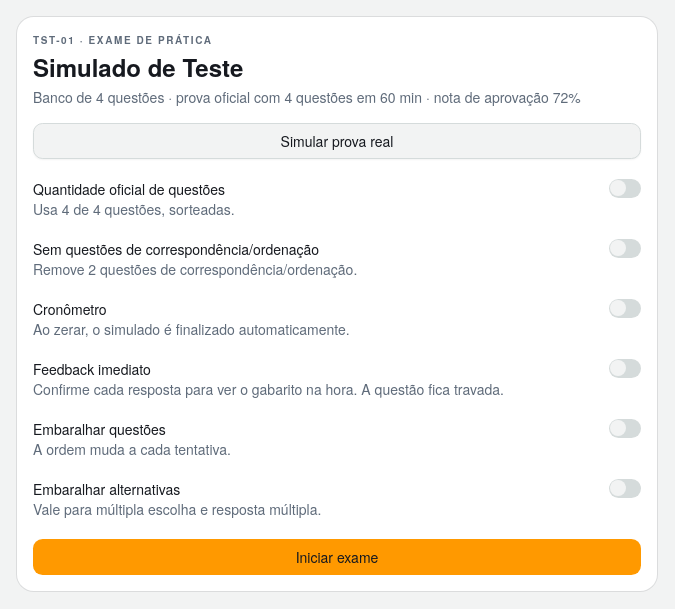
Test case: ExamIntro toggle de questoes de correspondencia/ordenacao › reduz o total disponivel na descricao da quantidade oficial ao ligar o toggle
This screenshot has width=675, height=609.
Expected: the text "Usa 4 de 4 questões, sorteadas." is shown, [33,199,235,219]
Click the 2nd switch named "Sem questões de correspondência/ordenação" at point(625, 248), box [609,239,641,258]
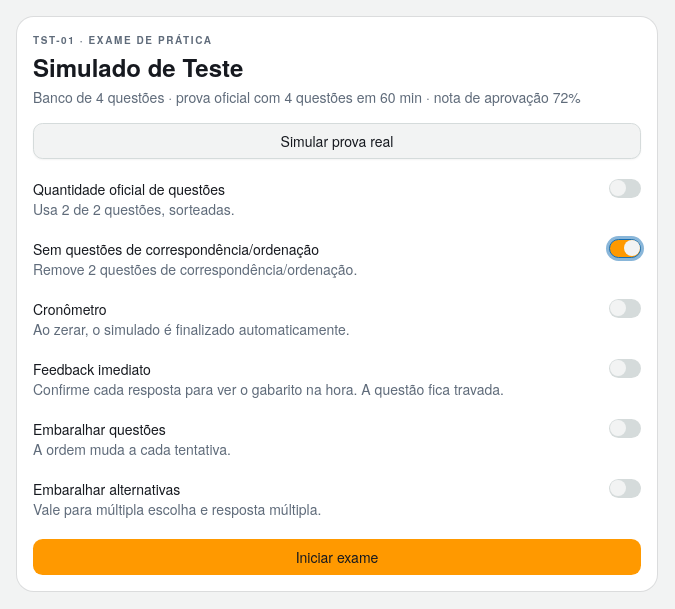
Now the text "Usa 2 de 2 questões, sorteadas." is shown, box [33,199,235,219]
